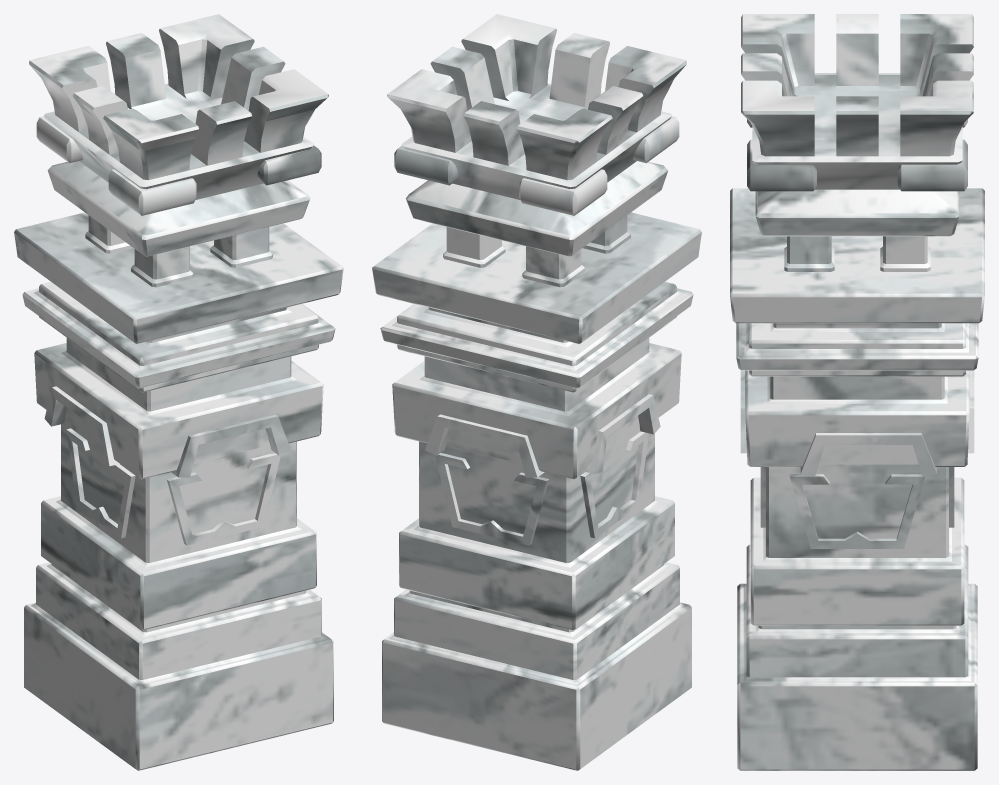
Rendered from chess_castle_01.glb.
3 renders of one model, left to right at view 1: azimuth 30°, elevation 25°; view 2: azimuth 150°, elevation 25°; view 3: azimuth 270°, elevation 25°, orthographic. The views are drawn at different scales.
Parts seen in each view (by area): view 1: castle_01; view 2: castle_01; view 3: castle_01.
Boxes of the visible parts, x1,y1,x2,y2 form: castle_01: (14,14,343,770); castle_01: (372,14,701,770); castle_01: (730,14,984,770).
Bounding box in the file's own units: 0.5943 × 1.7 × 0.5943.
1 material, 1 textured.
